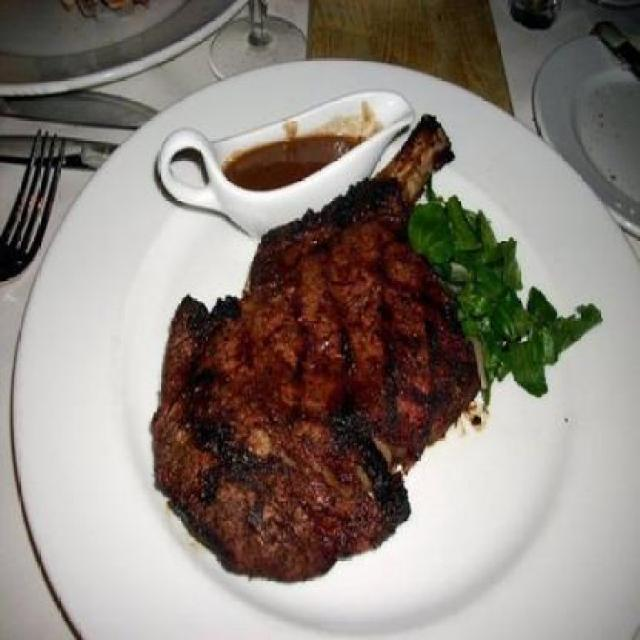Steak: (150, 163, 513, 574)
